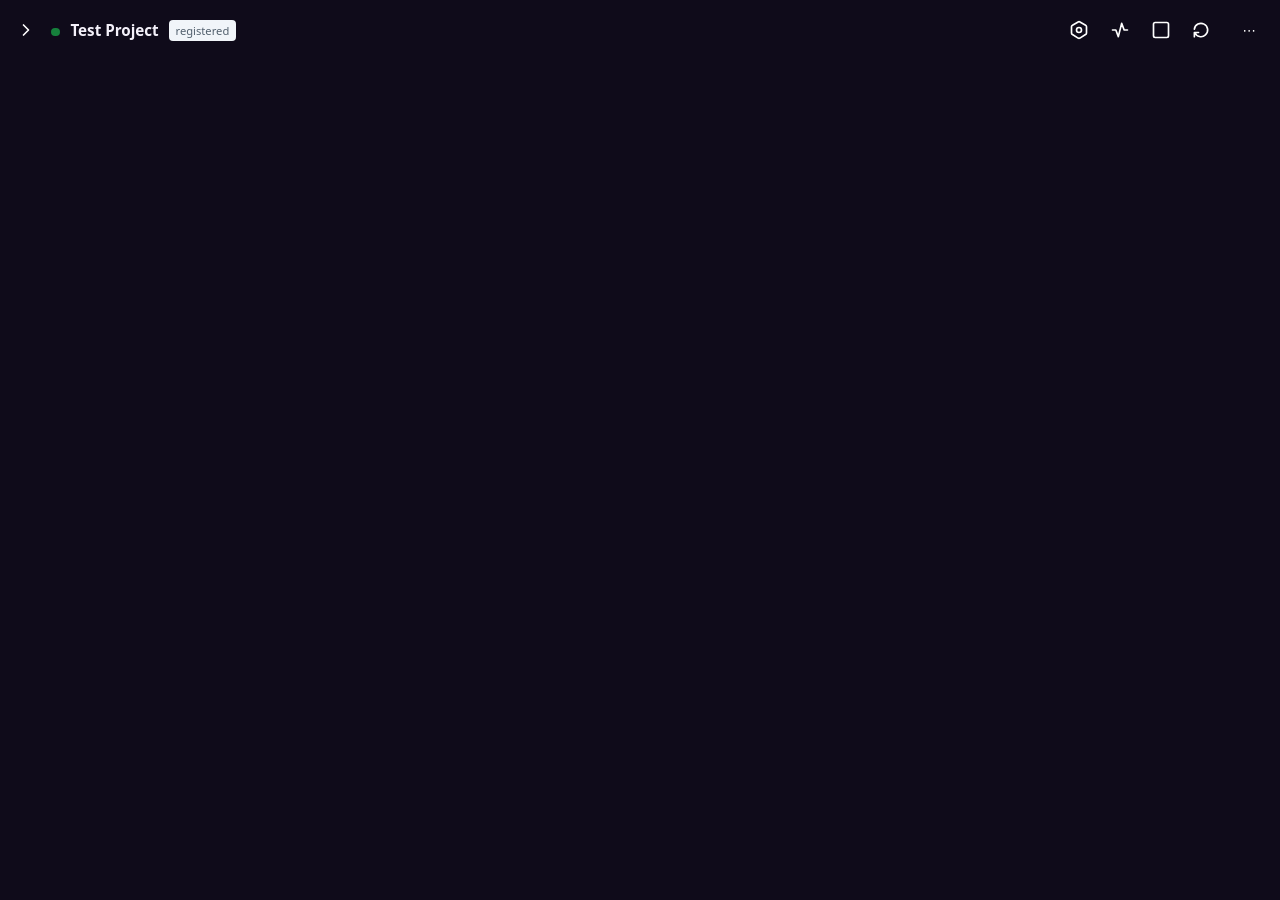
Test: ActionMenu › retains dialog and typed error when destructive action rejects
The width and height of the screenshot is (1280, 900).
Click the button named "more actions": (1249, 30) x1=1231 y1=12 x2=1267 y2=48
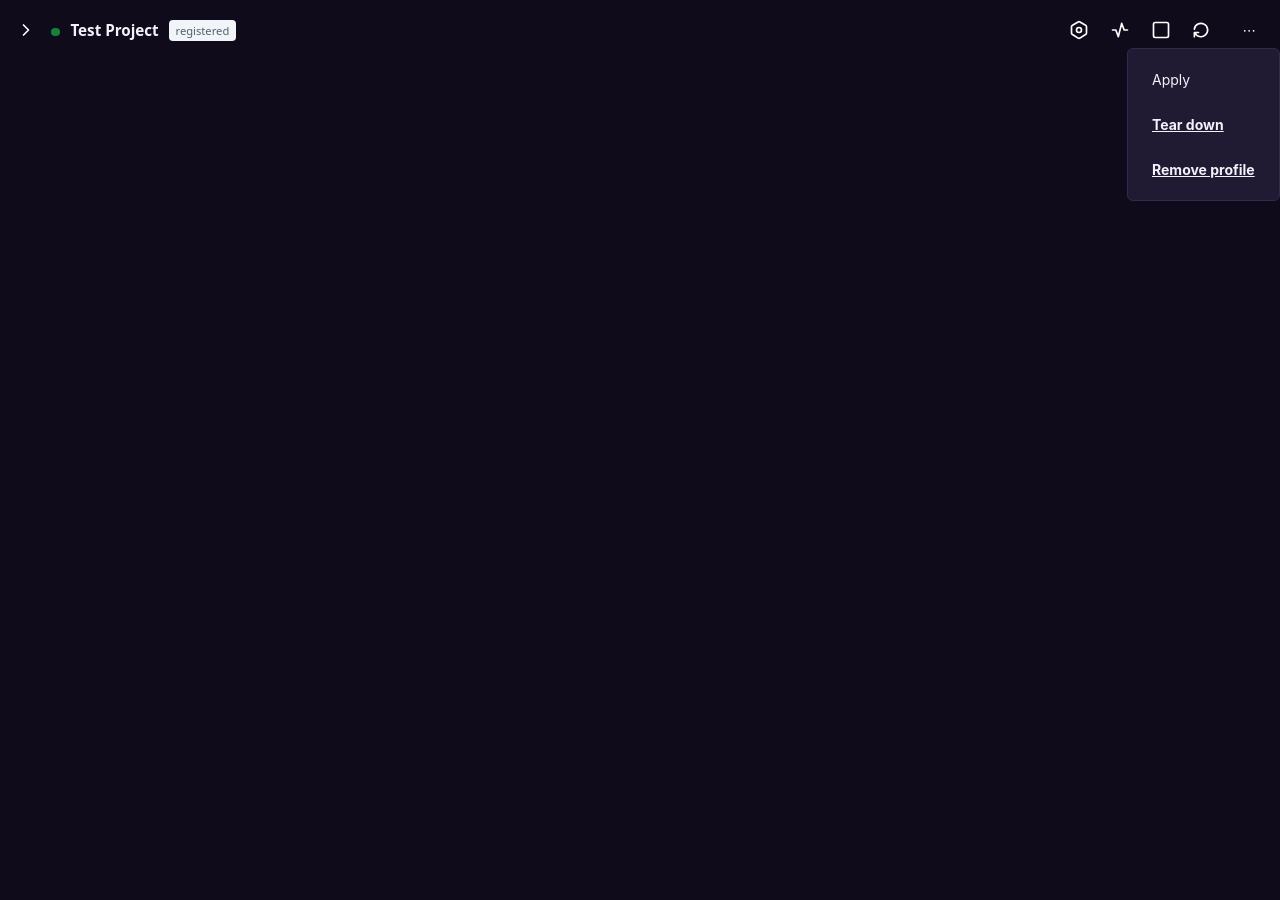
Click the menu item "Remove profile": (1203, 170) x1=1152 y1=161 x2=1255 y2=178
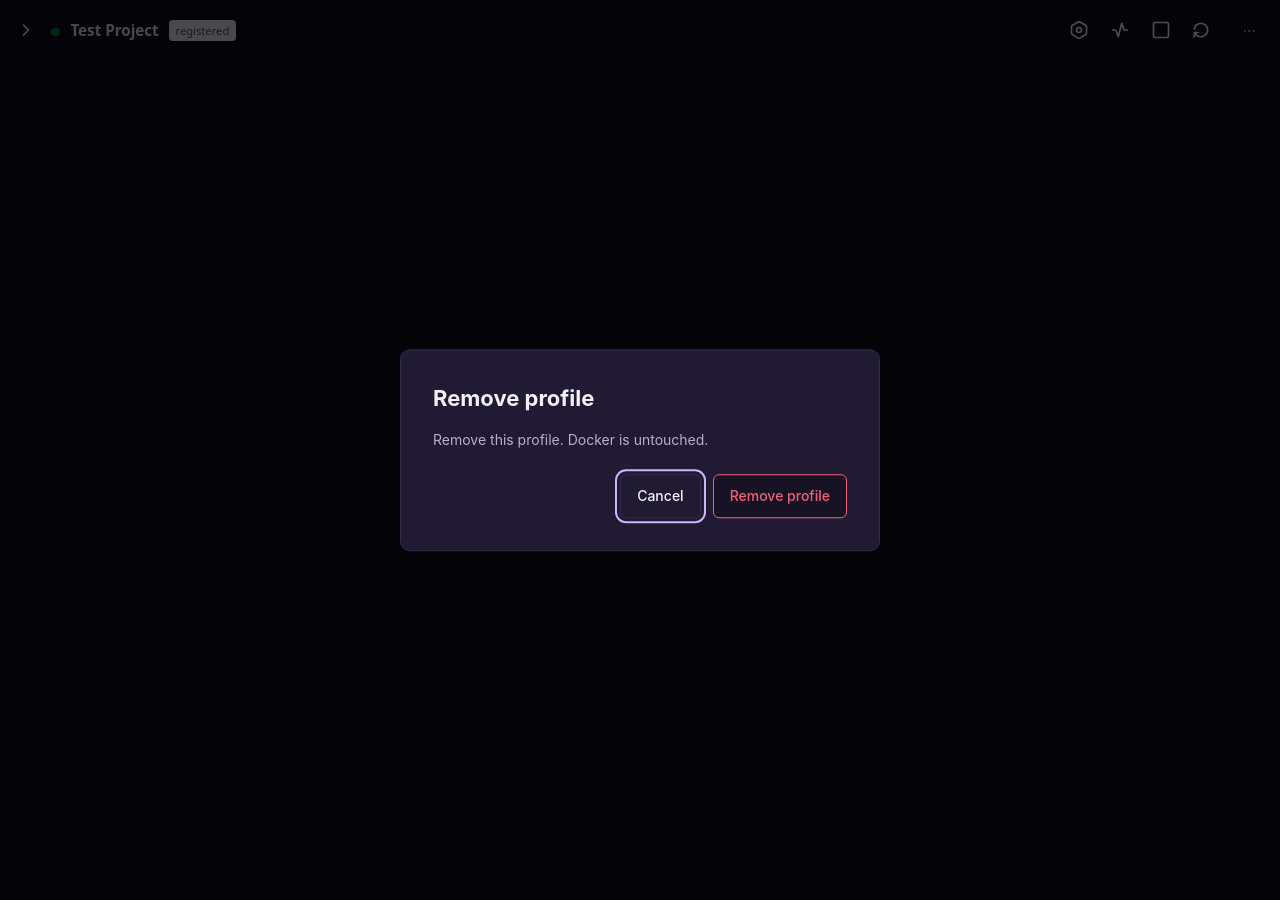
Click the button "Remove profile": (780, 496) x1=713 y1=474 x2=847 y2=518
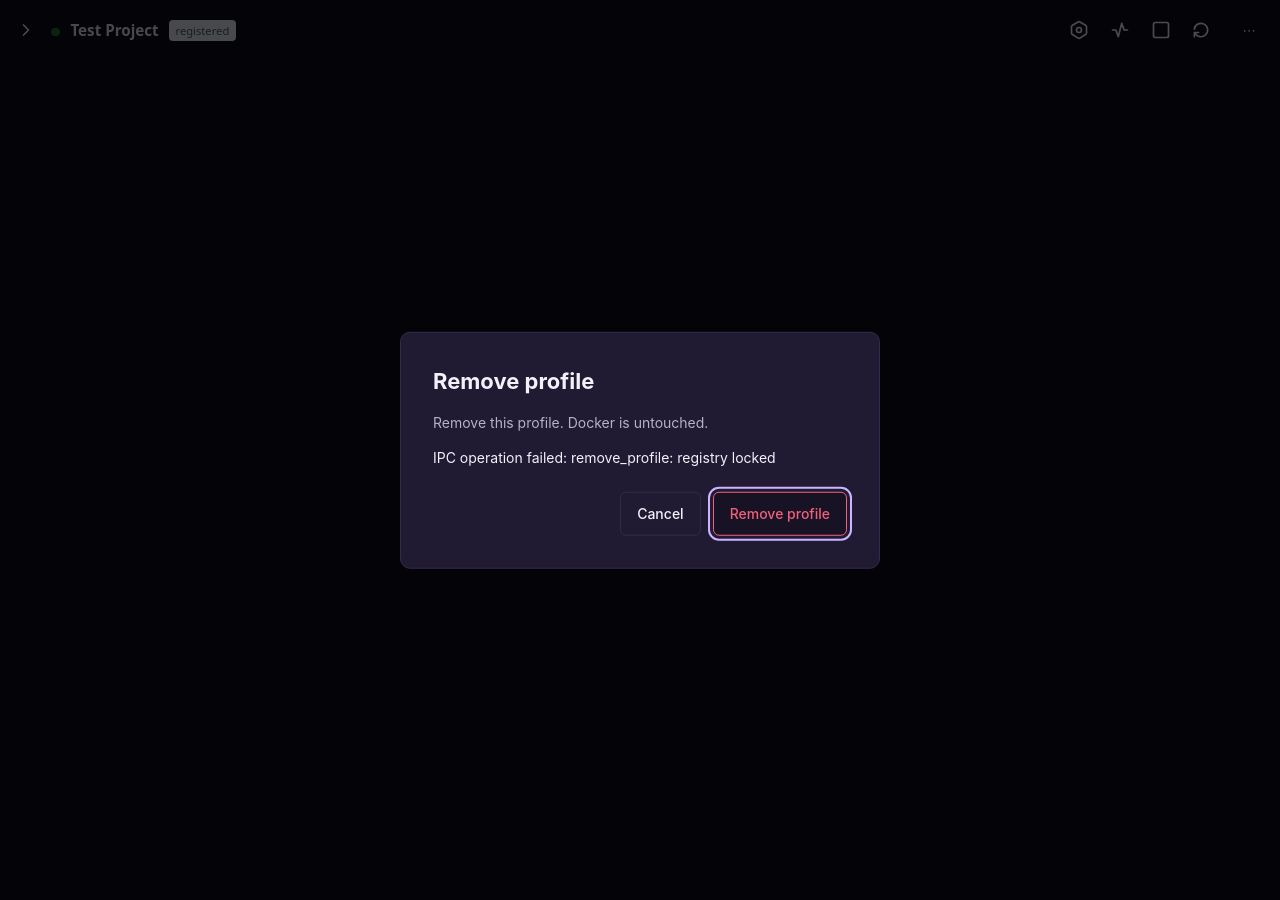
Expected: the dialog "Remove profile" is shown, x1=400 y1=332 x2=880 y2=568
Expected: the message shows "registry locked", x1=669 y1=449 x2=776 y2=466
